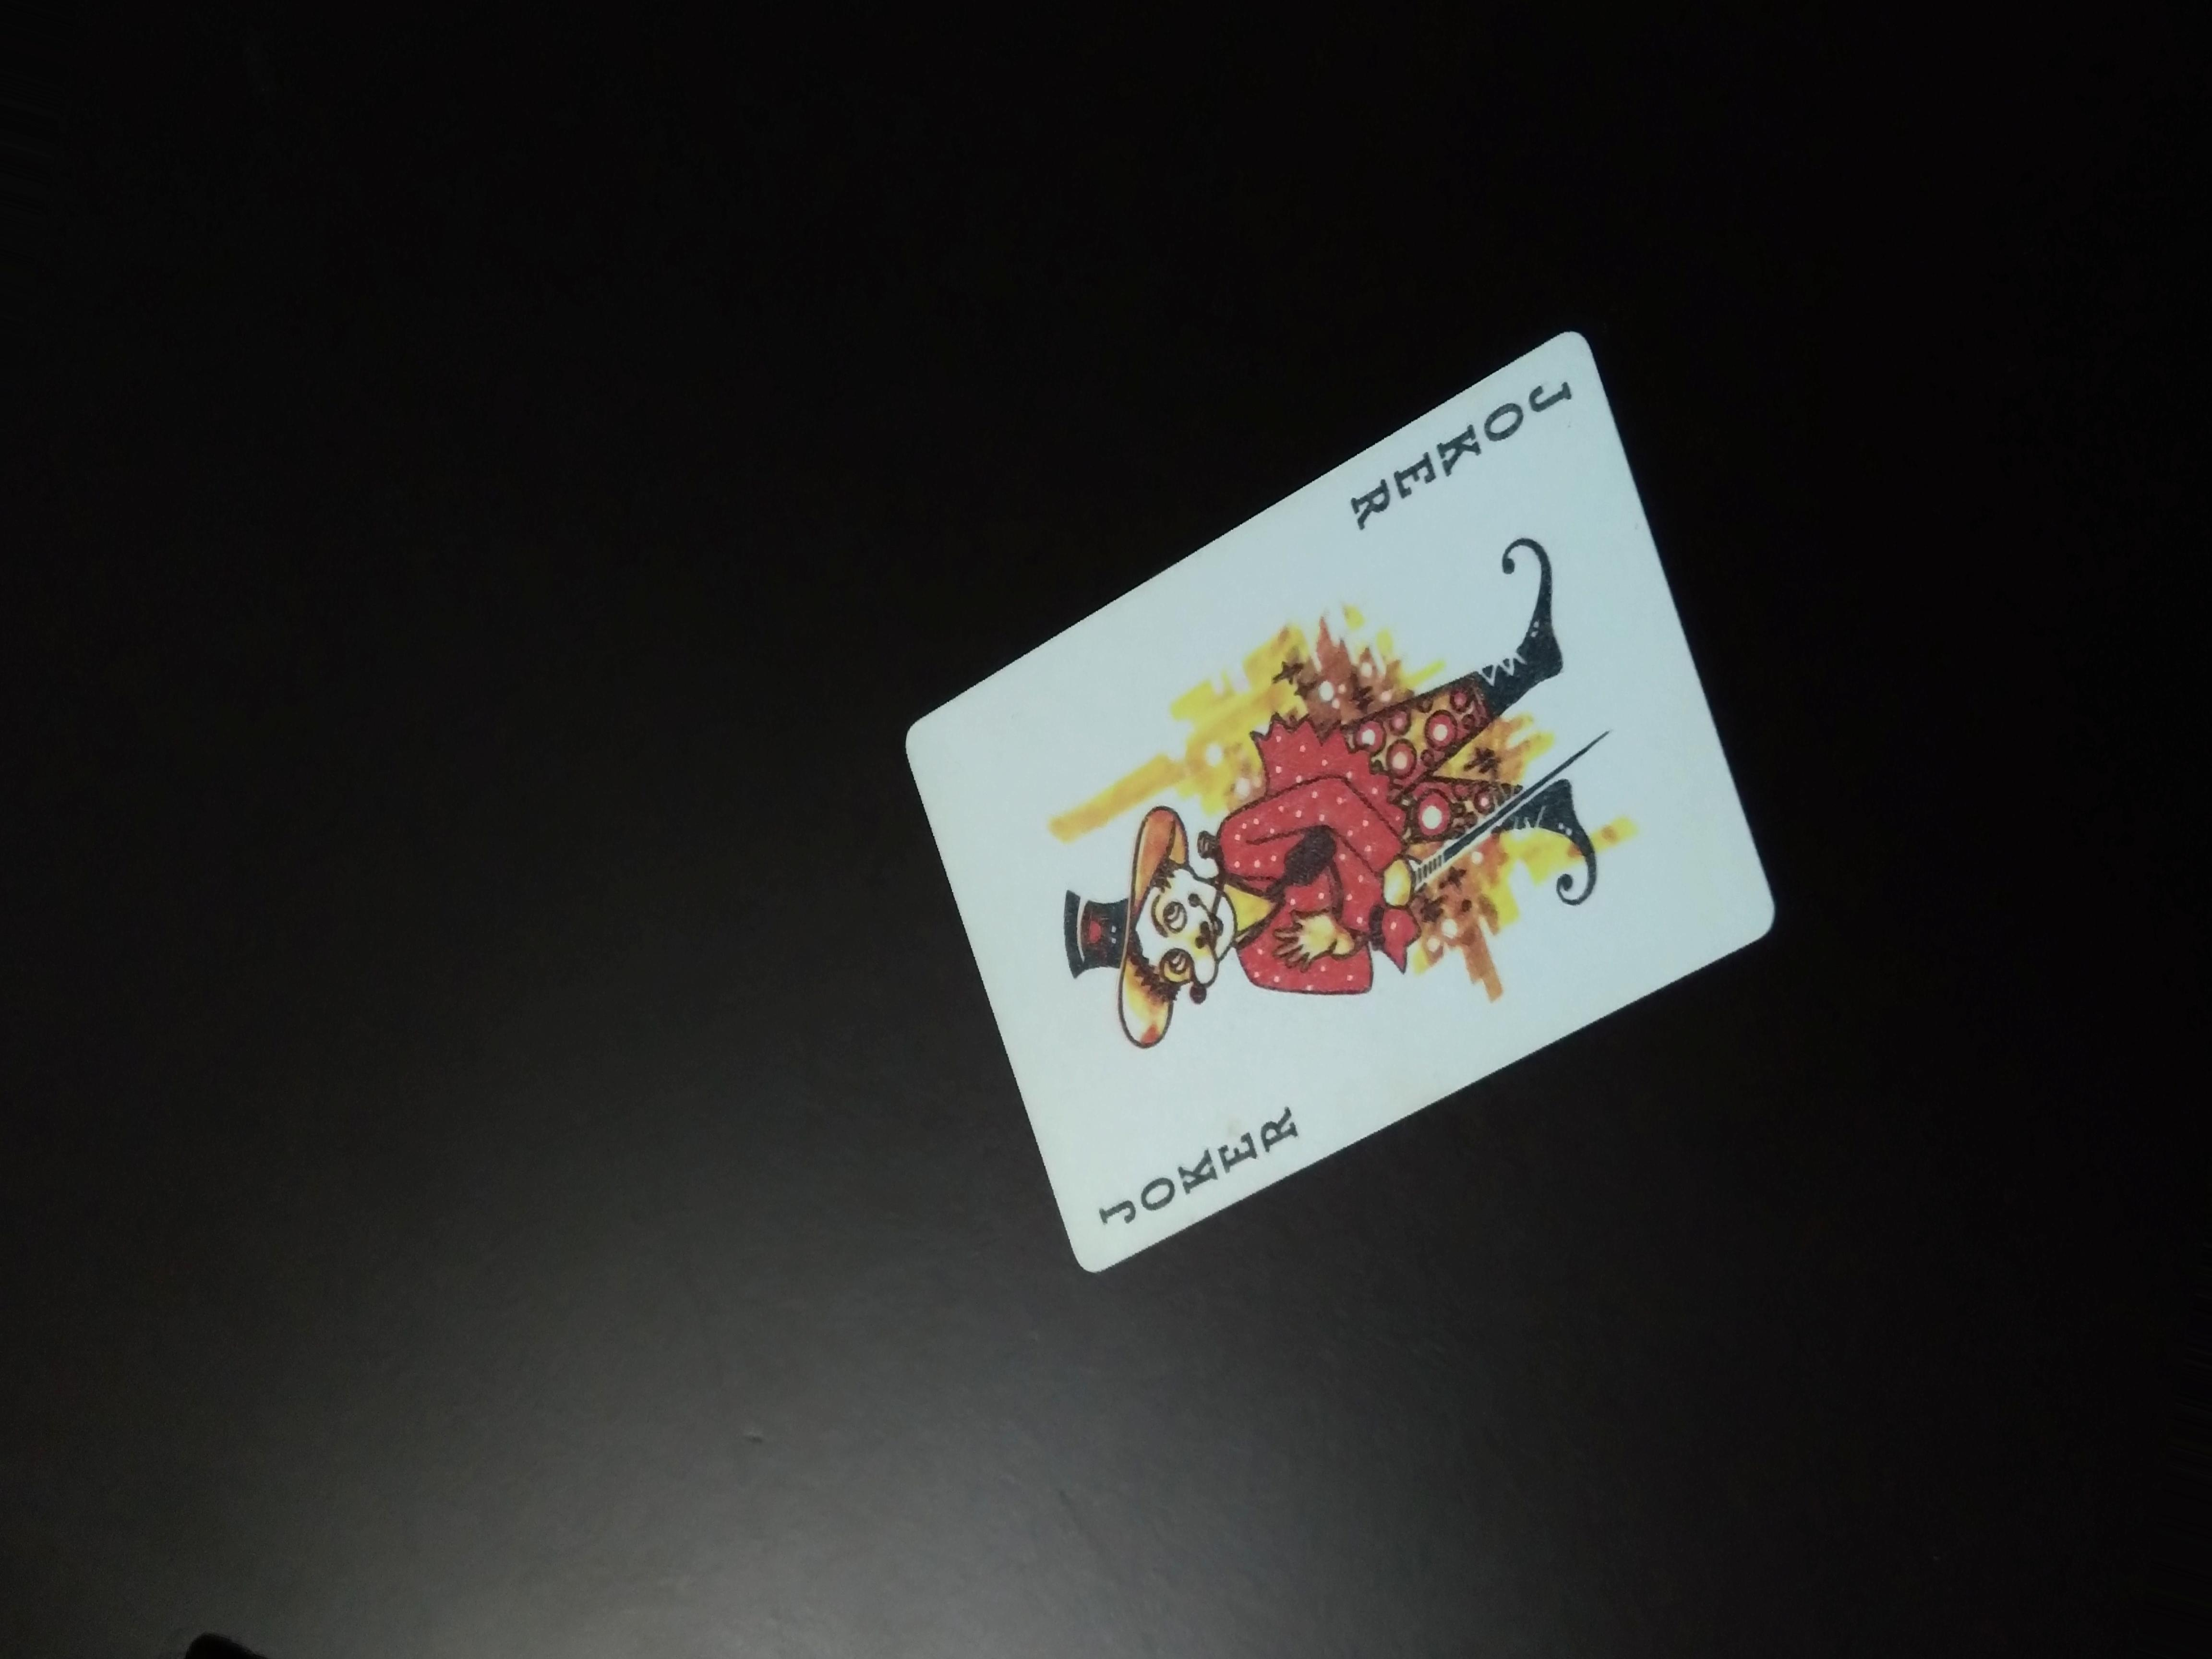JOKER: (1329, 378, 1587, 551)
